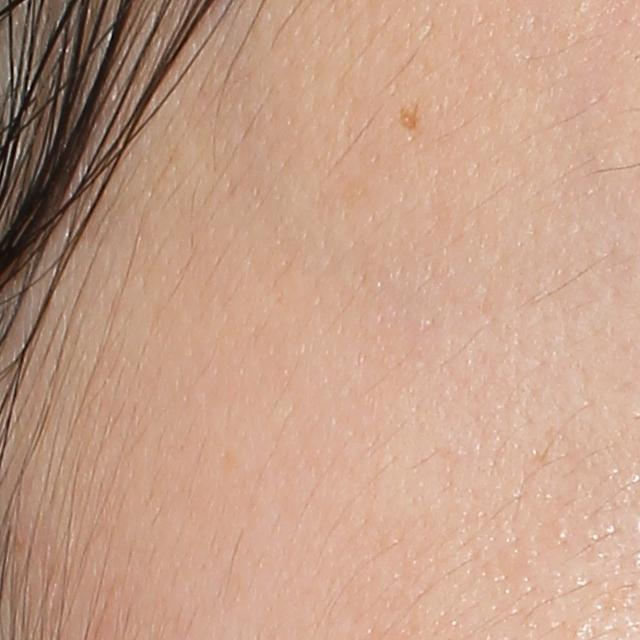melasma: (396, 100, 420, 131)
